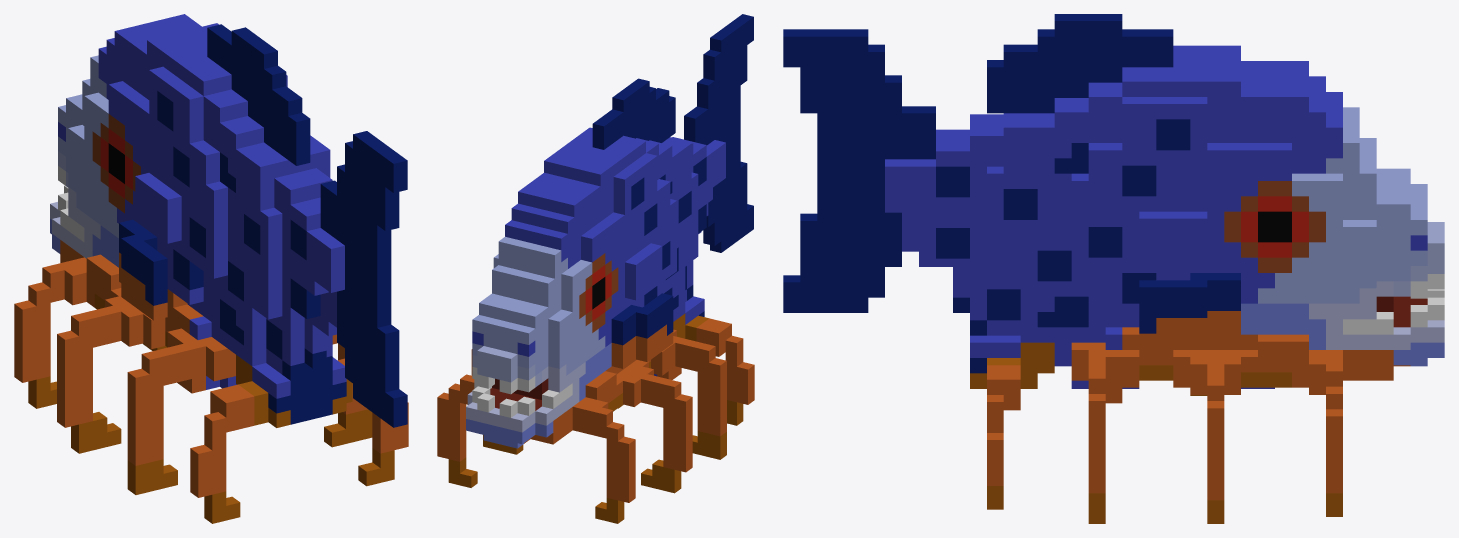
Rendered from footed_piranha.fbx.
The picture shows the model from 3 angles, left to right: view 1: azimuth 30°, elevation 25°; view 2: azimuth 150°, elevation 25°; view 3: azimuth 270°, elevation 25°; orthographic projection. The views are drawn at different scales.
Visible parts, largest first — view 1: Union_16; view 2: Union_16; view 3: Union_16.
Boxes of the visible parts, x1=… form: Union_16: x1=14, y1=14, x2=408, y2=523; Union_16: x1=437, y1=14, x2=754, y2=523; Union_16: x1=783, y1=14, x2=1444, y2=523.
Bounding box in the file's own units: 19 × 29 × 39.
